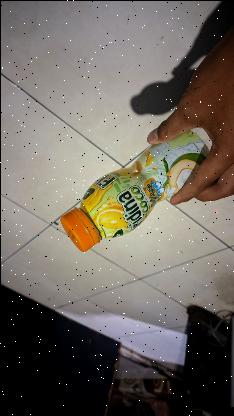Plastic Bottle: (63, 138, 206, 251)
